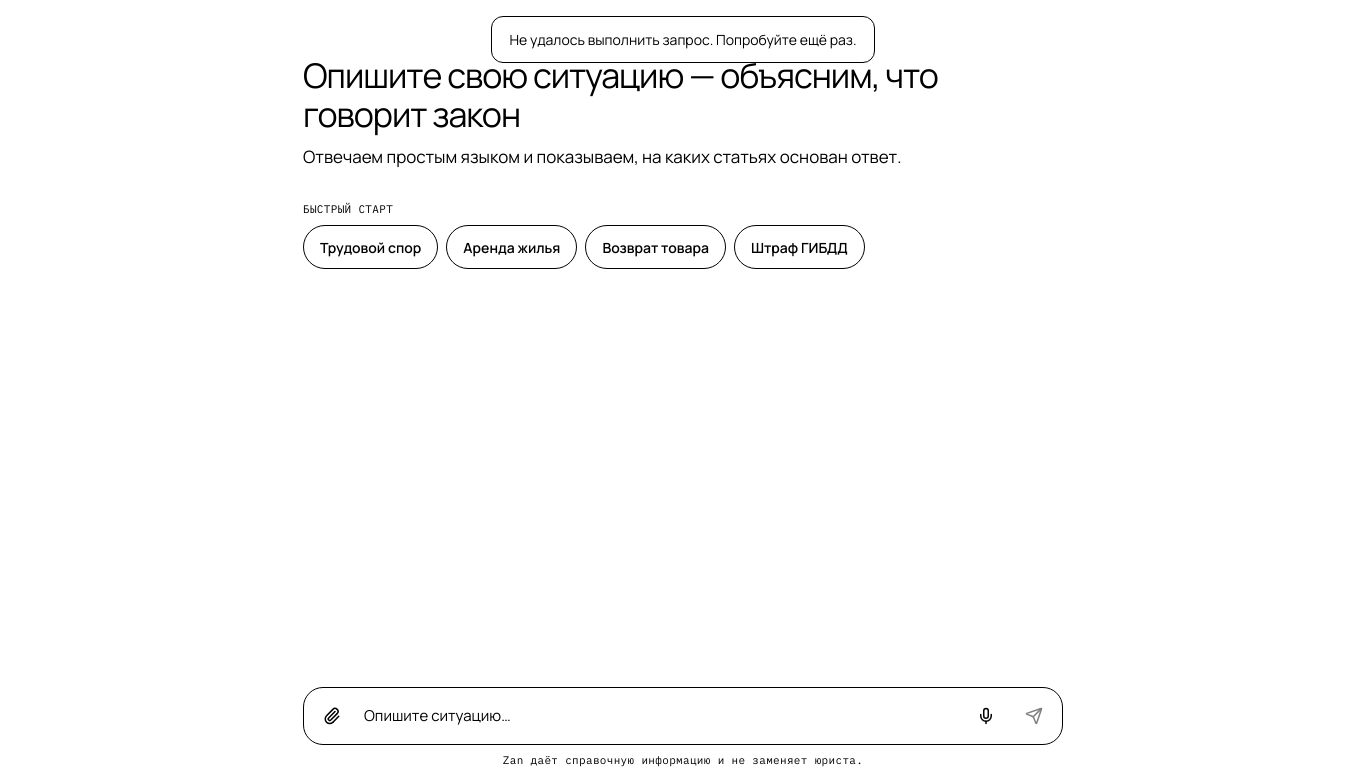
Test: ChatPage › если баланса не было — предлагает оплату, после подтверждения тред обрабатывается
Type "Вопрос без баланса" into the text box with placeholder "Опишите ситуацию…". click: (659,716)
box: x1=358 y1=695 x2=960 y2=738
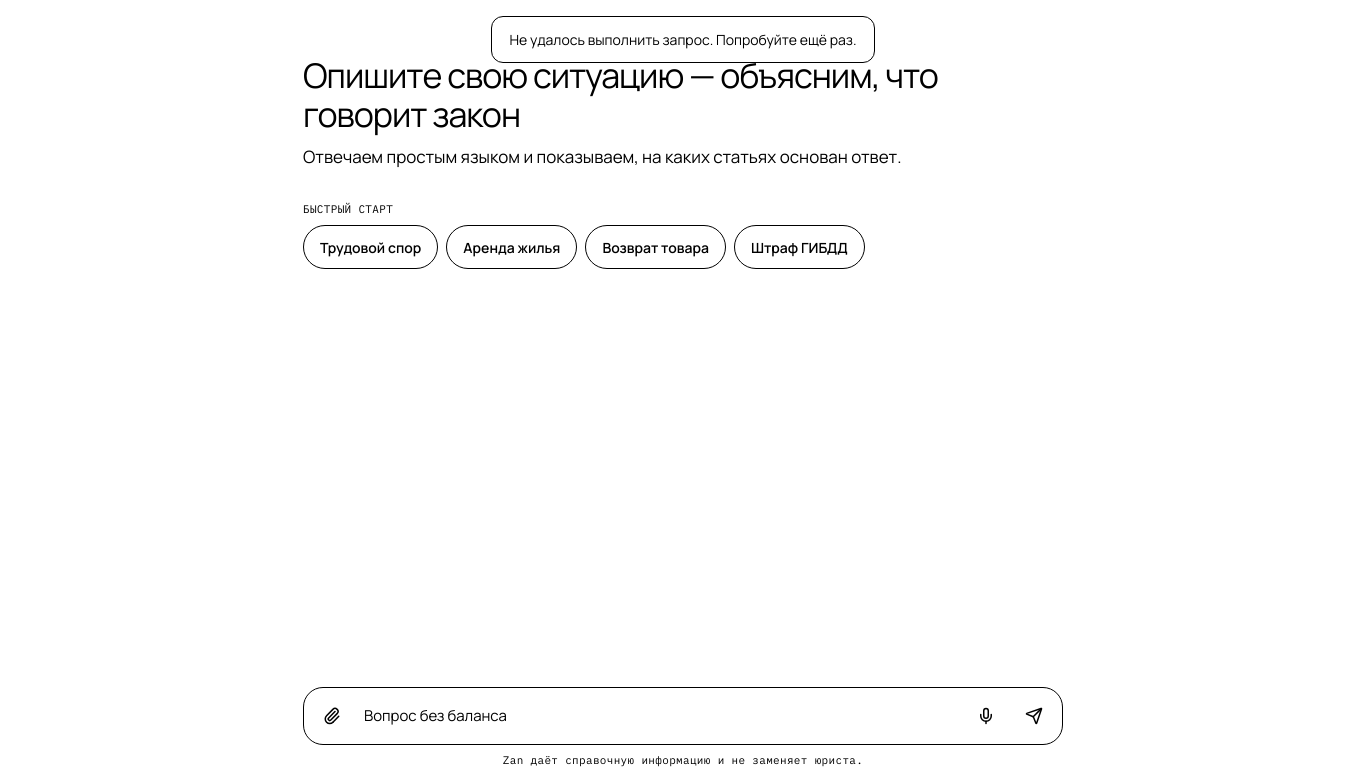
Click the button named "Отправить сообщение". click: (1034,716)
box: x1=1012 y1=694 x2=1056 y2=738
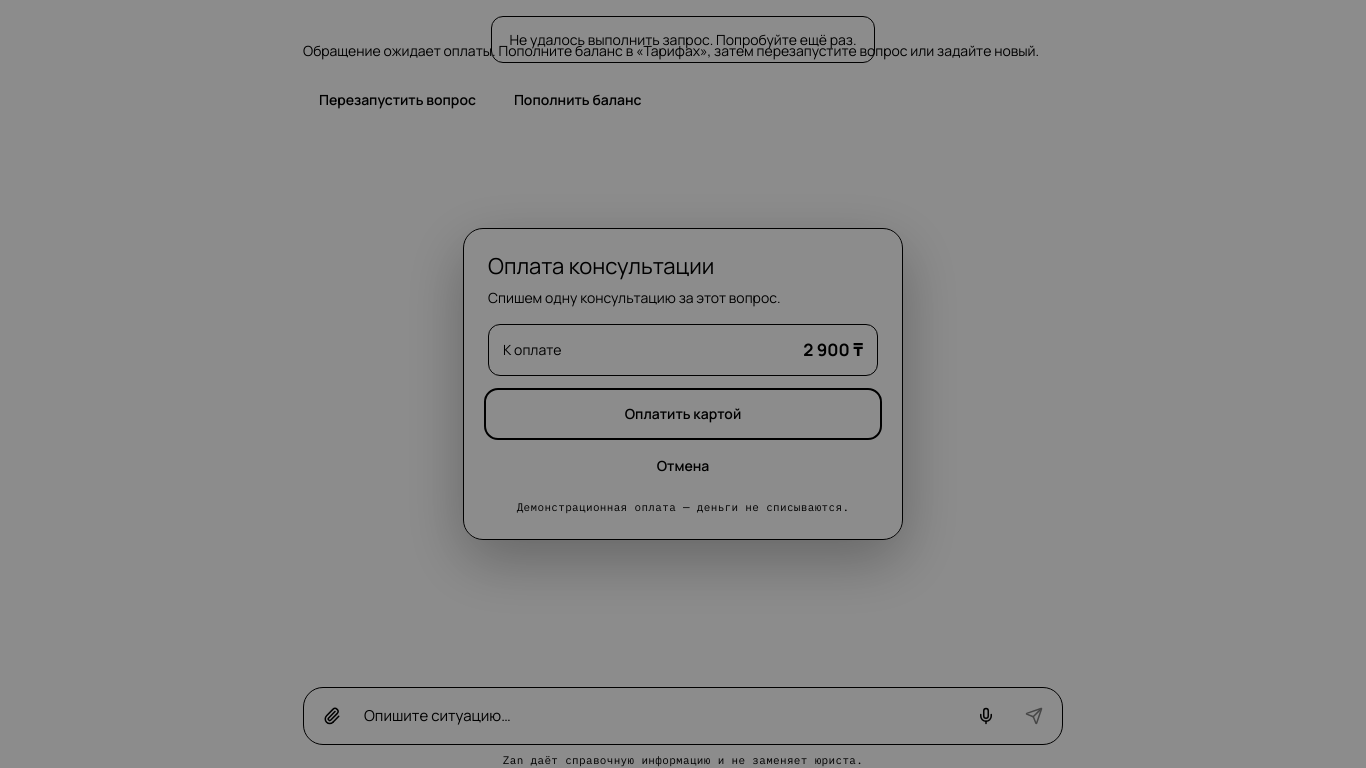
Click the button "Оплатить картой". click: (683,414)
box: x1=488 y1=392 x2=878 y2=436
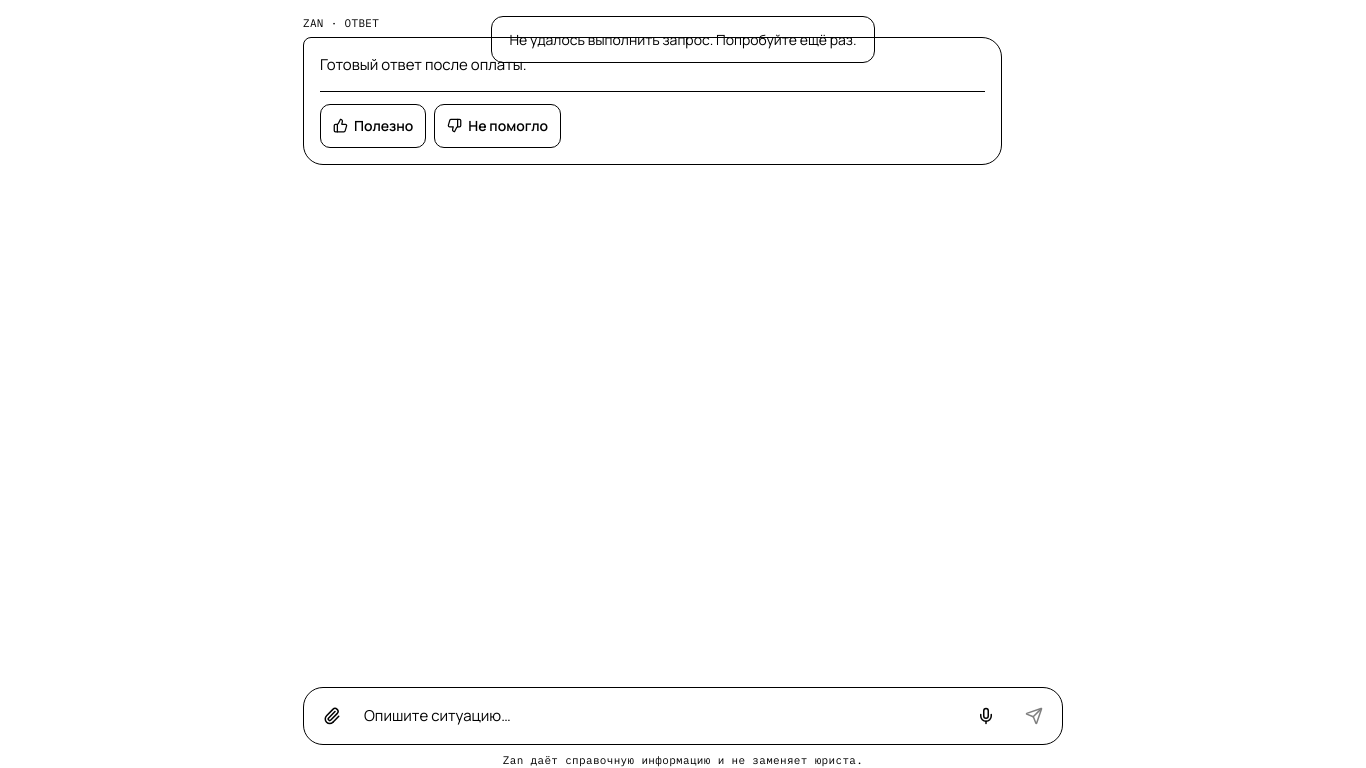
Expected: the text "Готовый ответ после оплаты." is shown, x1=320 y1=54 x2=527 y2=75
